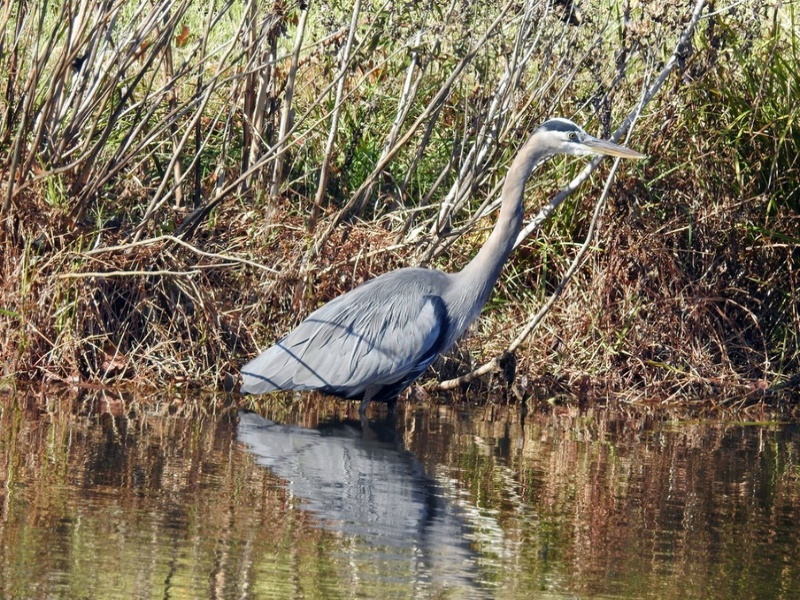heron: (233, 112, 656, 403)
